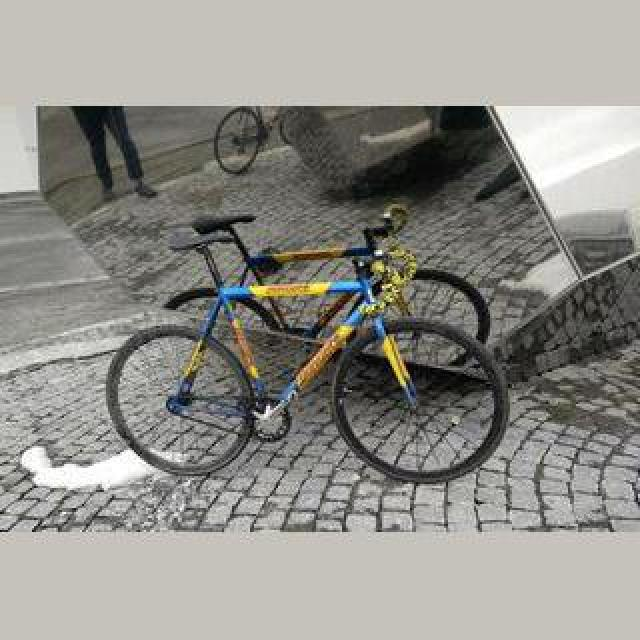Person: (108, 210, 504, 484), (172, 190, 492, 368), (214, 106, 292, 174)
